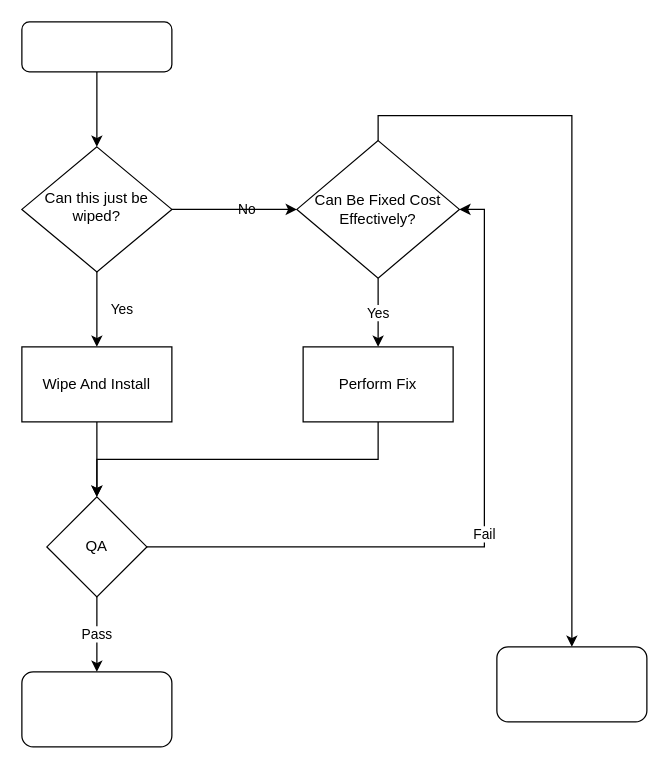
Some shapes in this 669 by 769 pixel diagram are drawn without their labels. The shapes that lost their labels are listed below. From the top down, each one's box as (x1, y1, x2, y2) in pixels, then its label:
(21, 21, 172, 72): Device Recieved
(496, 646, 647, 722): Part reclamation / E-Wast Recycle
(21, 671, 172, 747): Distributor
